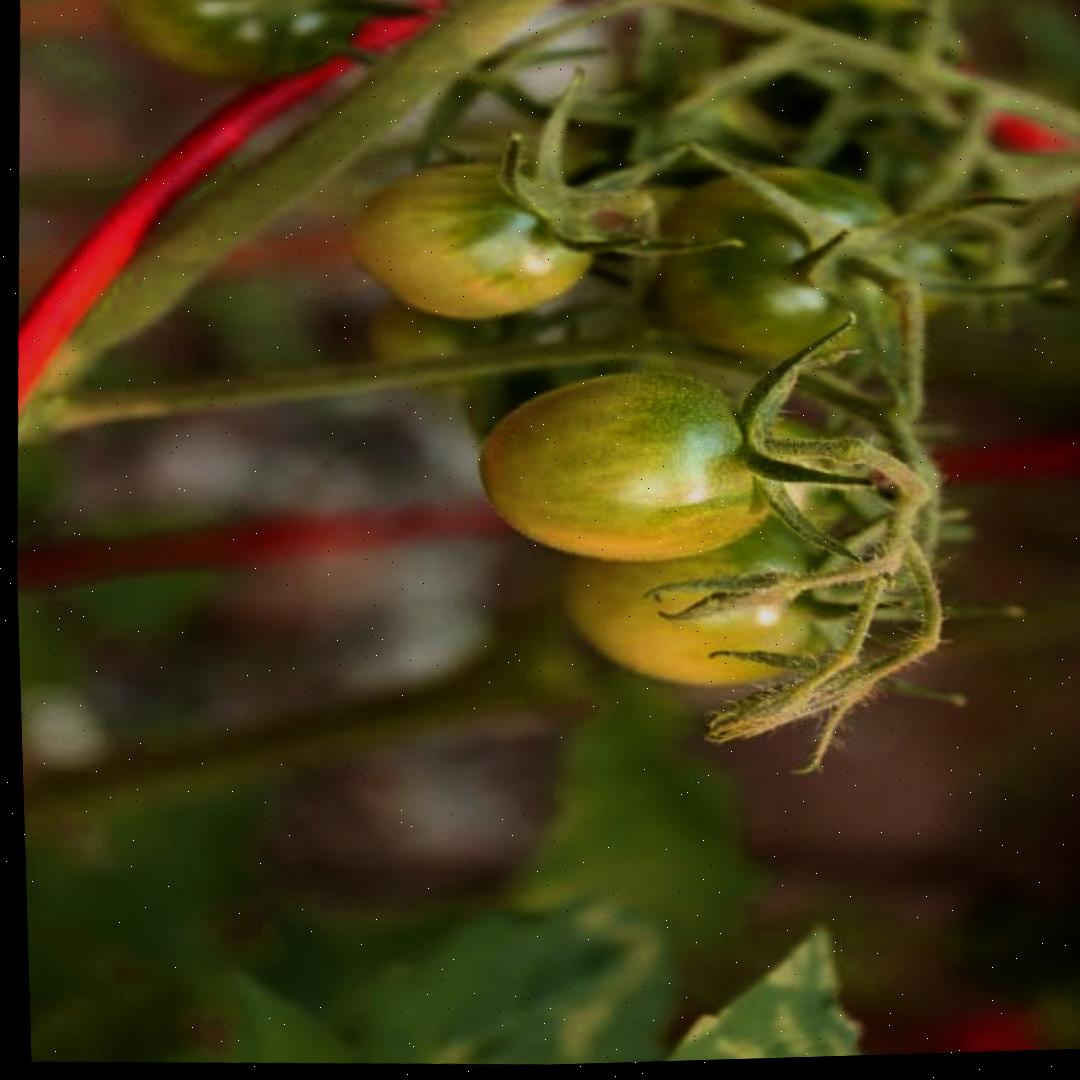mentah: (471, 358, 787, 569), (347, 155, 600, 325)
